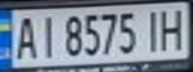5: (115, 8, 142, 55), (81, 10, 103, 56)
7: (100, 10, 121, 55)
8: (60, 11, 84, 57)
A: (9, 12, 39, 61)
H: (157, 4, 190, 52)
I: (33, 11, 60, 60), (139, 6, 166, 53)
